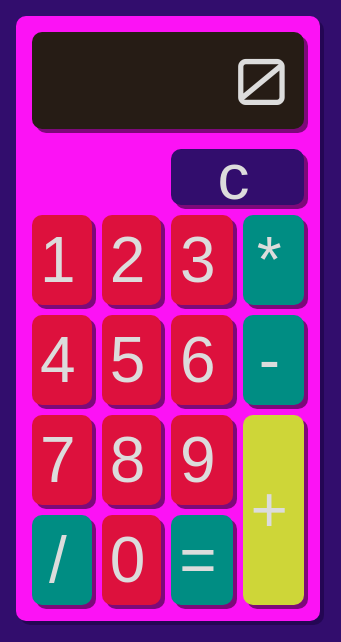
Scenario: Calculator › Deve subtrair corretamente
What coordinates should you click on to do the following:
click the button with test id "button-5"
I would click on:
 (132, 360)
Its box is [102,315,162,405].
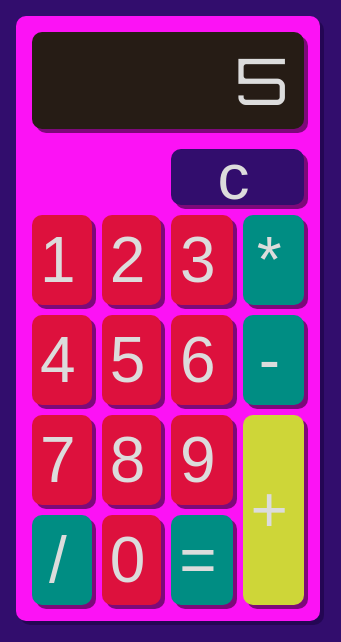
What coordinates should you click on to do the following:
click the button "-"
I would click on:
 (274, 360)
Its box is [243,315,304,405].
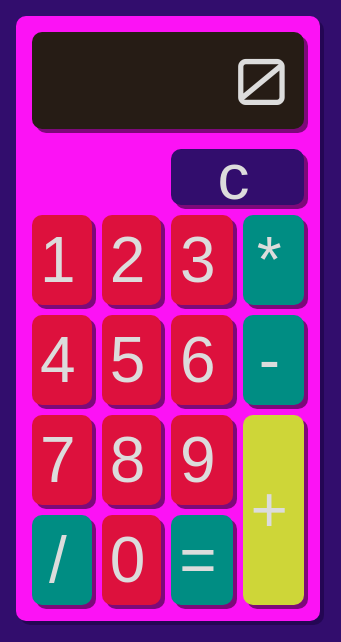
What coordinates should you click on to do the following:
click the button with test id "button-3"
I would click on:
 (202, 260)
Its box is [171,215,232,305].
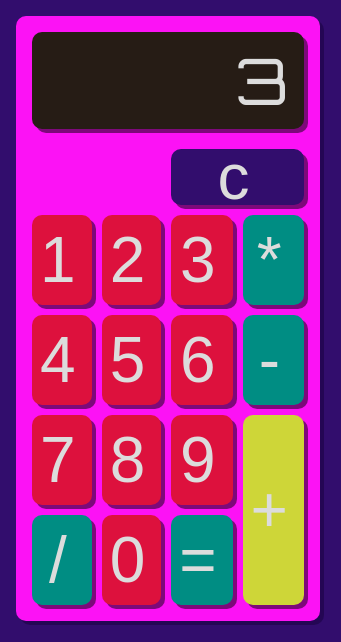
What coordinates should you click on to do the following:
click the button "="
I would click on:
 (202, 560)
Its box is [171,515,232,605].
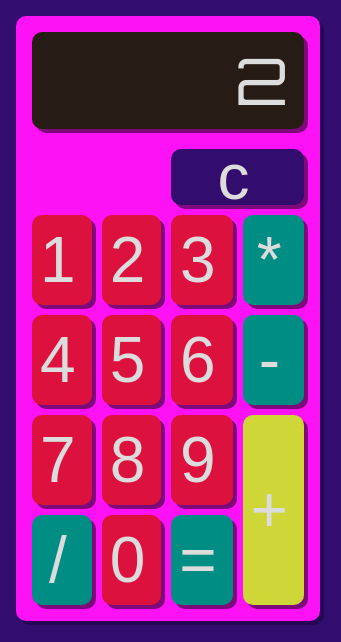
Check: the text with test id "display" reads "2", box [32,32,304,129]
